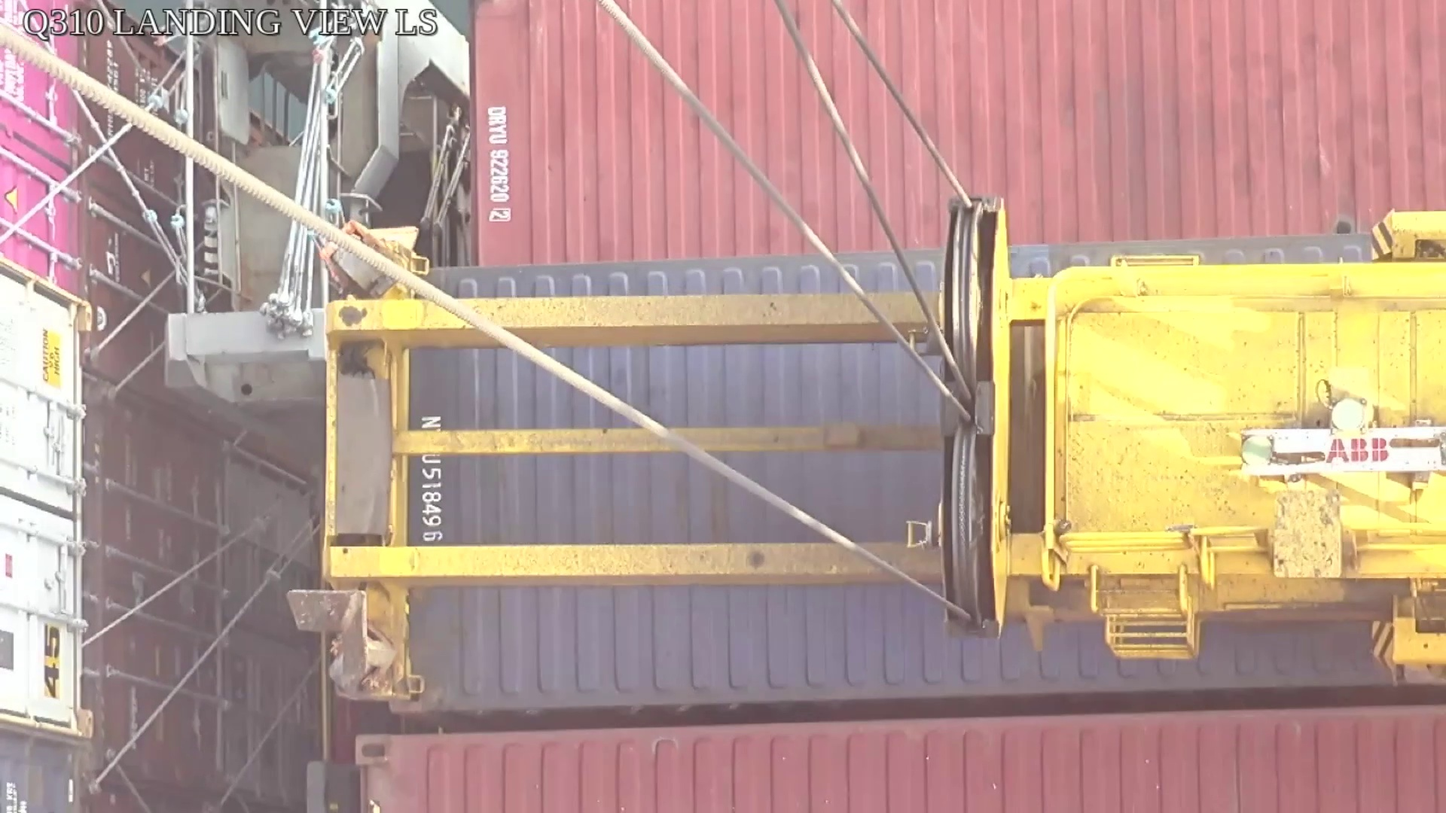aa: (941, 199, 1014, 638)
